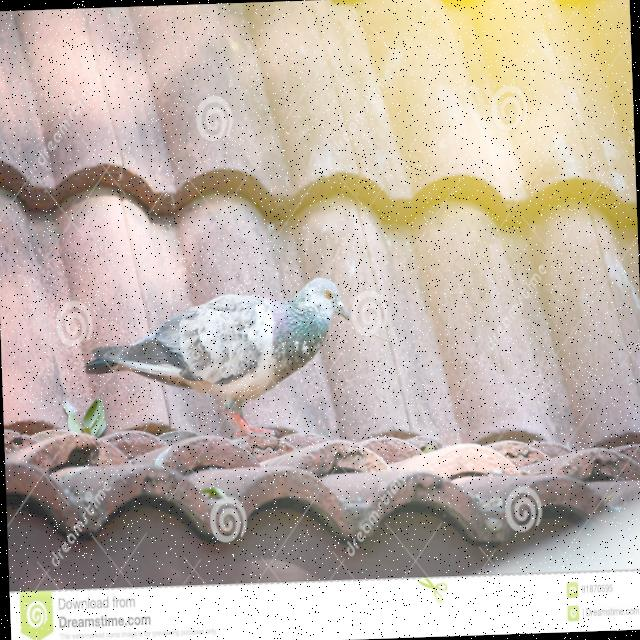bird: (81, 274, 359, 448)
